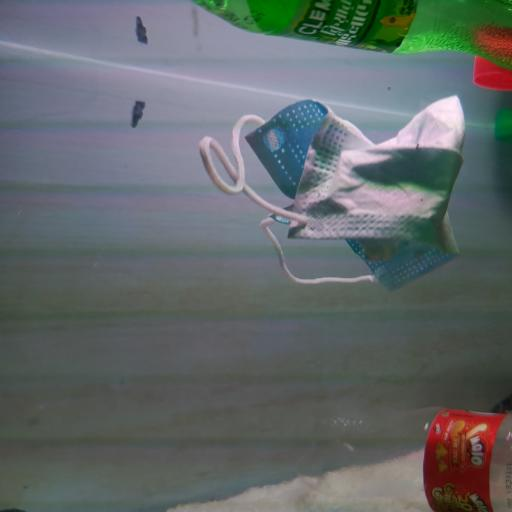bottle_cap: (474, 55, 512, 92), (492, 124, 512, 141)
mask: (199, 94, 468, 292)
plastic_bottle: (186, 0, 512, 74), (299, 405, 512, 512)
